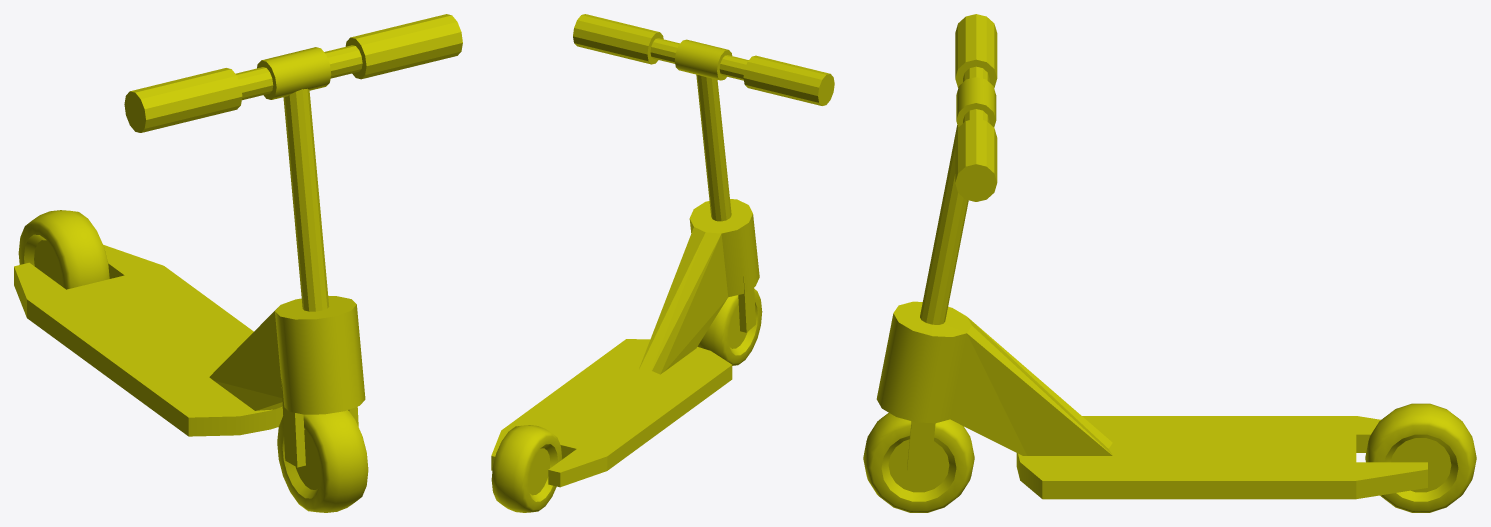
File: mount_scooter00.glb
3 views of the same model, side by side, from view 1: azimuth 30°, elevation 25°; view 2: azimuth 150°, elevation 25°; view 3: azimuth 270°, elevation 25° (orthographic). The views are drawn at different scales.
Parts seen in each view (by area): view 1: scooter; view 2: scooter; view 3: scooter.
Boxes of the visible parts, <box> form: scooter: <box>14,14,462,512</box>; scooter: <box>491,14,834,512</box>; scooter: <box>863,14,1476,512</box>.
Bounding box in the file's own units: 0.4954 × 0.6452 × 0.8559.
1 material, 1 textured.
